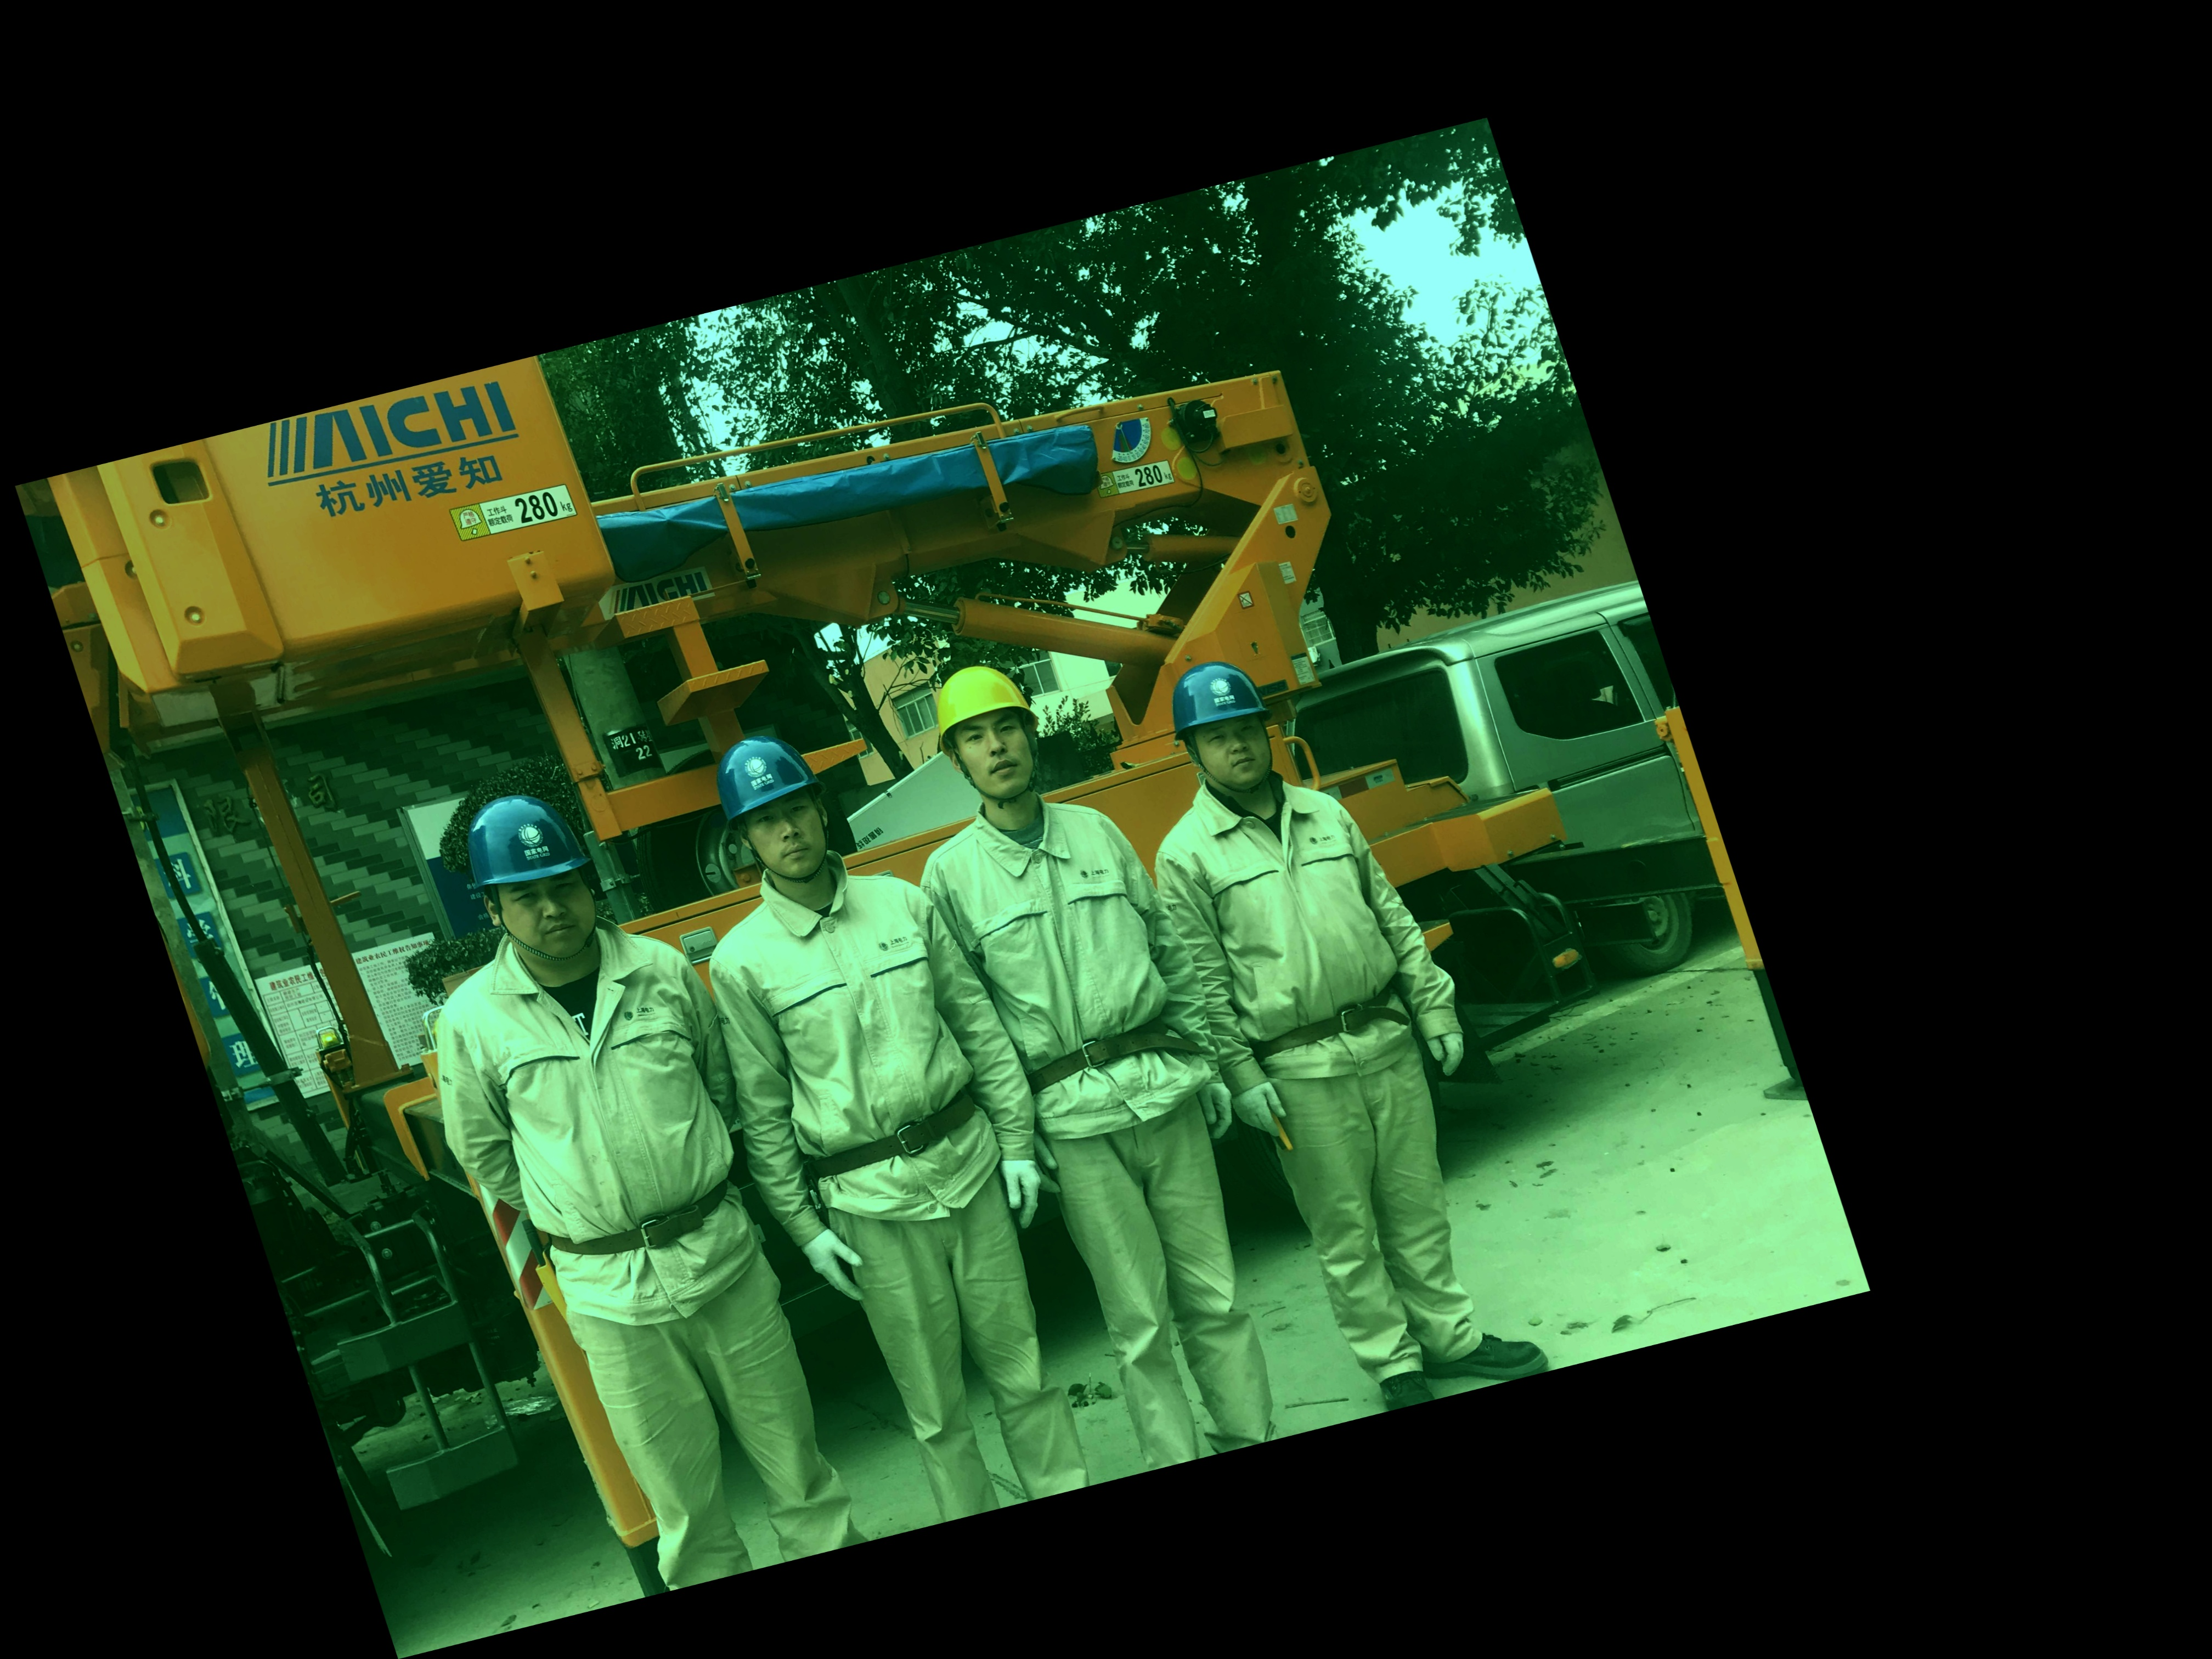helmet: (449, 782, 620, 974), (698, 719, 850, 894), (1150, 647, 1297, 801), (912, 657, 1057, 810)
person: (348, 761, 911, 1608), (630, 696, 1154, 1537), (851, 627, 1351, 1480), (1087, 630, 1579, 1426)
